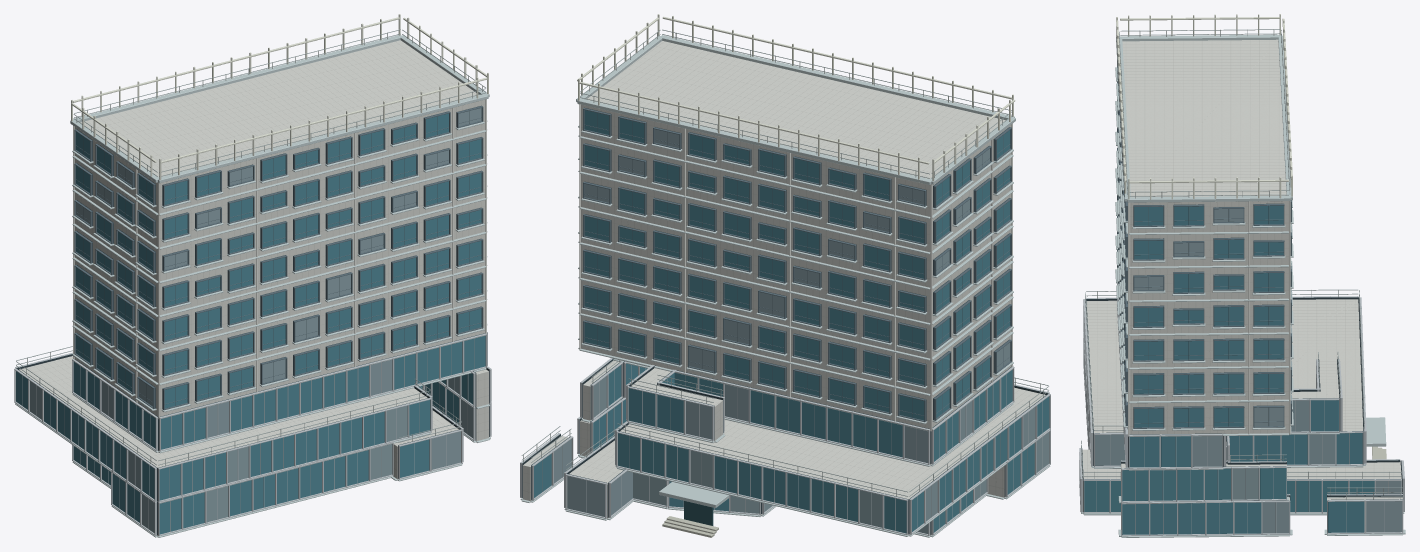
Rendered from vision_center.glb.
3 views of the same model, side by side, from view 1: azimuth 30°, elevation 25°; view 2: azimuth 150°, elevation 25°; view 3: azimuth 270°, elevation 25° (orthographic). The views are drawn at different scales.
Visible parts, largest first — view 1: vision_center_body_e1e4df, vision_center_glass_558e9e, vision_center, vision_center_stone_c5d4d6, vision_center_frames_c2cbd0, vision_center_glass_90a8b0, vision_center_stone_e3e7db, vision_center_frames_9aa8a9, vision_center_stone_e1e4df, vision_center_frames_a8b2b0; view 2: vision_center_body_e1e4df, vision_center_glass_558e9e, vision_center, vision_center_stone_c5d4d6, vision_center_glass_90a8b0, vision_center_frames_c2cbd0, vision_center_stone_e3e7db, vision_center_frames_9aa8a9, vision_center_stone_e1e4df, vision_center_frames_a8b2b0, vision_center_stone_c9ccc0; view 3: vision_center_body_e1e4df, vision_center_glass_558e9e, vision_center_stone_c5d4d6, vision_center, vision_center_frames_c2cbd0, vision_center_glass_90a8b0, vision_center_frames_9aa8a9, vision_center_stone_e3e7db, vision_center_stone_e1e4df, vision_center_frames_a8b2b0.
Part boxes in pixels (box(x1,y1,x2,y2)): vision_center_body_e1e4df: box(19, 40, 488, 537); vision_center_glass_558e9e: box(16, 113, 485, 534); vision_center: box(16, 105, 489, 535); vision_center_stone_c5d4d6: box(15, 35, 490, 537); vision_center_frames_c2cbd0: box(14, 332, 491, 536); vision_center_glass_90a8b0: box(30, 108, 481, 533); vision_center_stone_e3e7db: box(71, 14, 488, 183); vision_center_frames_9aa8a9: box(16, 29, 486, 465); vision_center_stone_e1e4df: box(73, 99, 486, 418); vision_center_frames_a8b2b0: box(26, 32, 482, 466); vision_center_body_e1e4df: box(523, 41, 1045, 535); vision_center_glass_558e9e: box(534, 110, 1049, 533); vision_center: box(522, 107, 1048, 534); vision_center_stone_c5d4d6: box(520, 35, 1050, 537); vision_center_glass_90a8b0: box(554, 129, 1049, 533); vision_center_frames_c2cbd0: box(520, 358, 1050, 535); vision_center_stone_e3e7db: box(577, 14, 1015, 184); vision_center_frames_9aa8a9: box(521, 29, 1048, 496); vision_center_stone_e1e4df: box(579, 104, 1012, 431); vision_center_frames_a8b2b0: box(523, 32, 1043, 496); vision_center_stone_c9ccc0: box(662, 516, 718, 537); vision_center_body_e1e4df: box(1082, 39, 1402, 532); vision_center_glass_558e9e: box(1084, 205, 1374, 534); vision_center_stone_c5d4d6: box(1081, 34, 1405, 537); vision_center: box(1082, 61, 1402, 532); vision_center_frames_c2cbd0: box(1079, 283, 1404, 536); vision_center_glass_90a8b0: box(1095, 209, 1402, 533); vision_center_frames_9aa8a9: box(1081, 29, 1403, 497); vision_center_stone_e3e7db: box(1116, 14, 1292, 202); vision_center_stone_e1e4df: box(1128, 201, 1290, 436); vision_center_frames_a8b2b0: box(1081, 29, 1400, 499).
Bounding box in the file's own units: 39.93 × 38.5 × 31.66.
13 materials, 1 textured.
